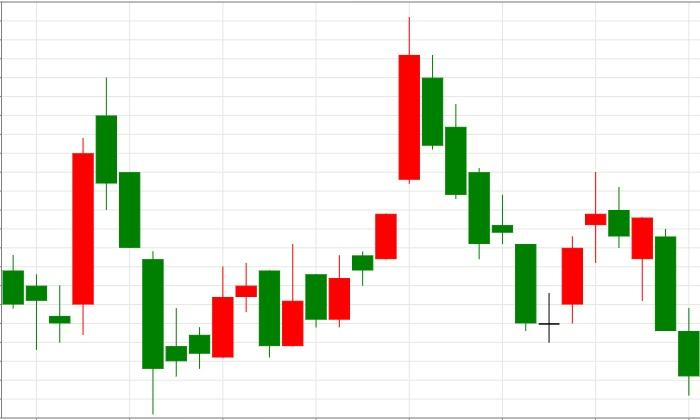morning_star_rise: (422, 55, 583, 343)
three_black_crows_fall: (49, 77, 164, 414)
